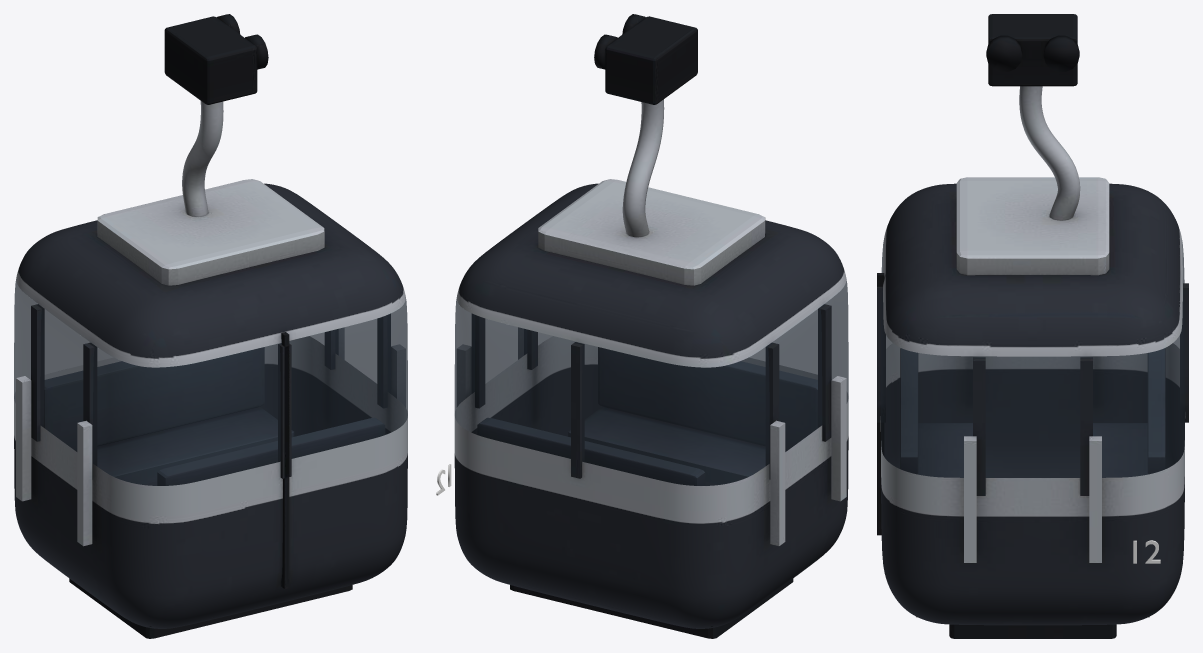
The model's file is gondola.glb.
3 renders of one model, left to right at view 1: azimuth 30°, elevation 25°; view 2: azimuth 150°, elevation 25°; view 3: azimuth 270°, elevation 25°, orthographic. The views are drawn at different scales.
Parts seen in each view (by area): view 1: gondola, gondola_glass; view 2: gondola, gondola_glass; view 3: gondola, gondola_glass.
Boxes of the visible parts, x1,y1,x2,y2 form: gondola: [14, 14, 407, 638]; gondola_glass: [14, 279, 407, 485]; gondola: [454, 14, 848, 638]; gondola_glass: [454, 279, 848, 485]; gondola: [877, 14, 1188, 638]; gondola_glass: [880, 240, 1185, 477].
Size of the model in its own units: 2.13 by 3.48 by 1.74.
3 materials, 1 textured.
